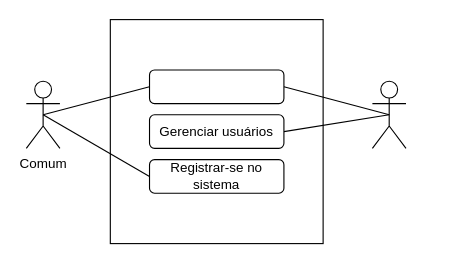
This 449x263 diagram has some shape labels left out. The centre of each missing label's shape, as x and y in pixels:
"Administrador" belongs at (x=388, y=114).
"Gerenciar perguntas" belongs at (x=216, y=86).
